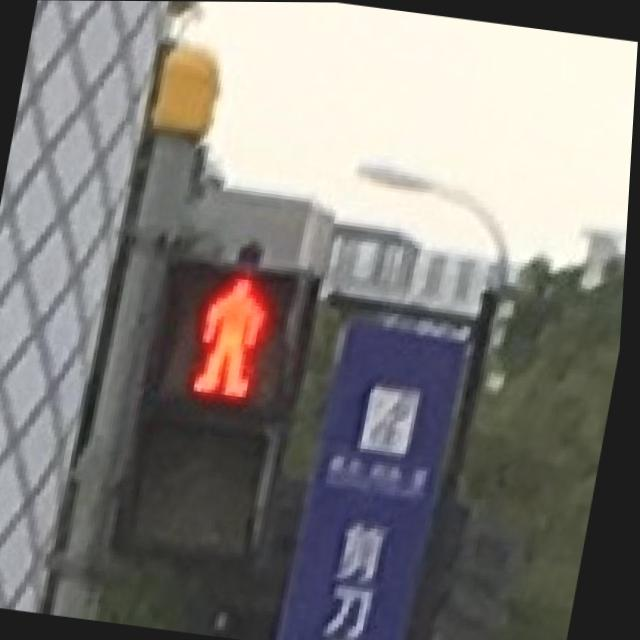red_light: (163, 254, 301, 411)
